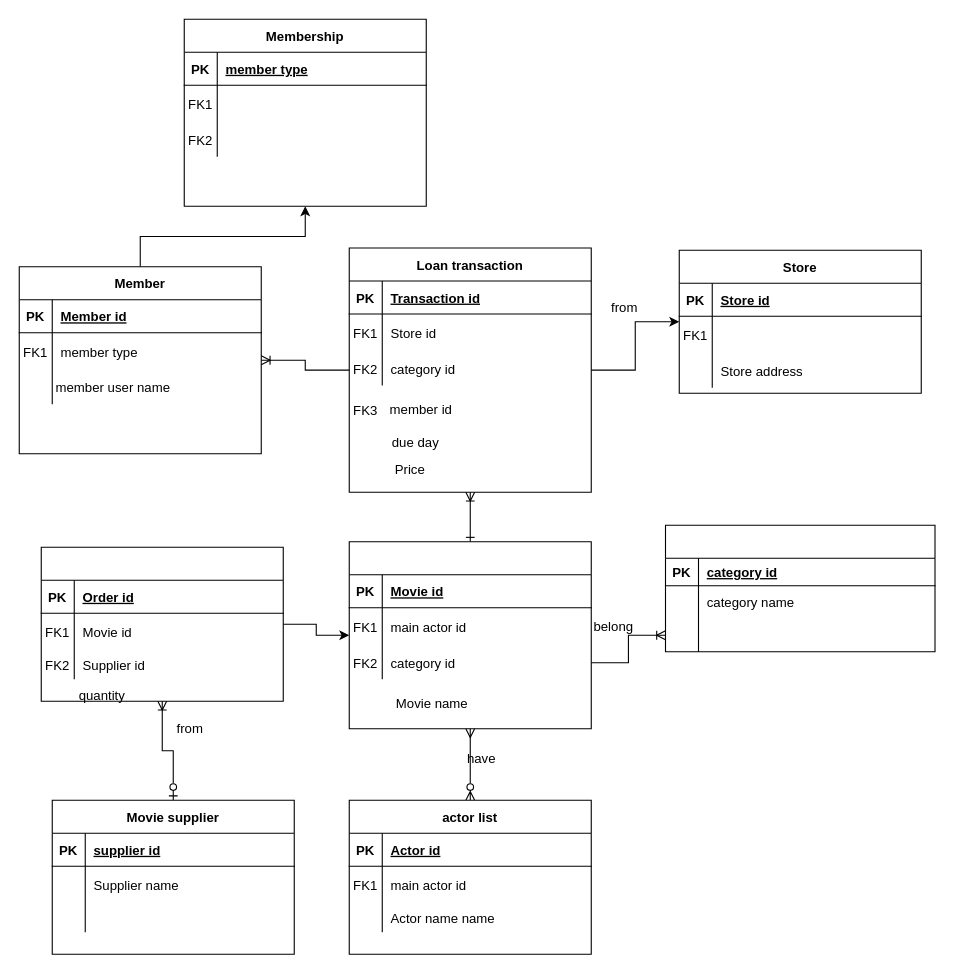
Image size: 955x974. Some labels were removed from this diagram. The shapes that lost their labels are listed below. From the top down, each one's box as (x1, y1, x2, y2) in pixels, then its label:
(664, 524, 935, 652): Movie category
(40, 546, 283, 701): Purchase order
(348, 541, 591, 729): Movie information
